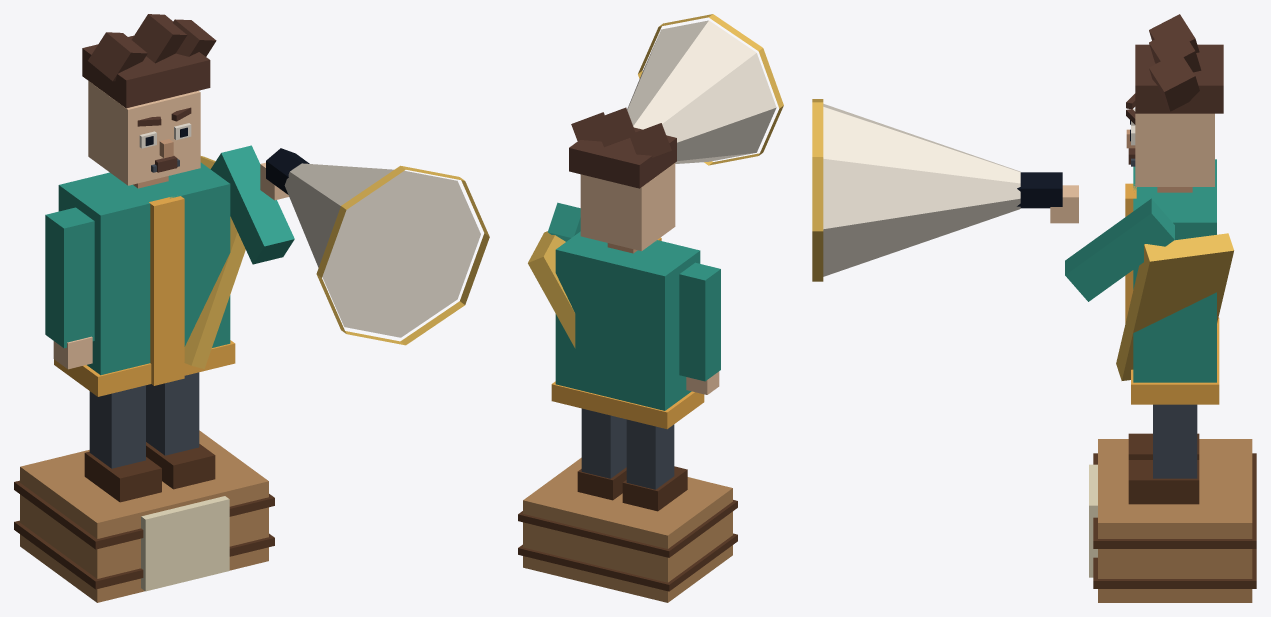
Rendered from enemy_demagogue.glb.
The picture shows the model from 3 angles, left to right: view 1: azimuth 30°, elevation 25°; view 2: azimuth 150°, elevation 25°; view 3: azimuth 270°, elevation 25°; orthographic projection. The views are drawn at different scales.
Visible parts, largest first — view 1: enemy_demagogue; view 2: enemy_demagogue; view 3: enemy_demagogue.
Part boxes in pixels (x1,y1,x2,y2): enemy_demagogue: [14, 14, 489, 602]; enemy_demagogue: [518, 14, 783, 602]; enemy_demagogue: [812, 14, 1256, 602].
Size of the model in its own units: 1.36 by 2.69 by 2.02.
1 material, 1 textured.
